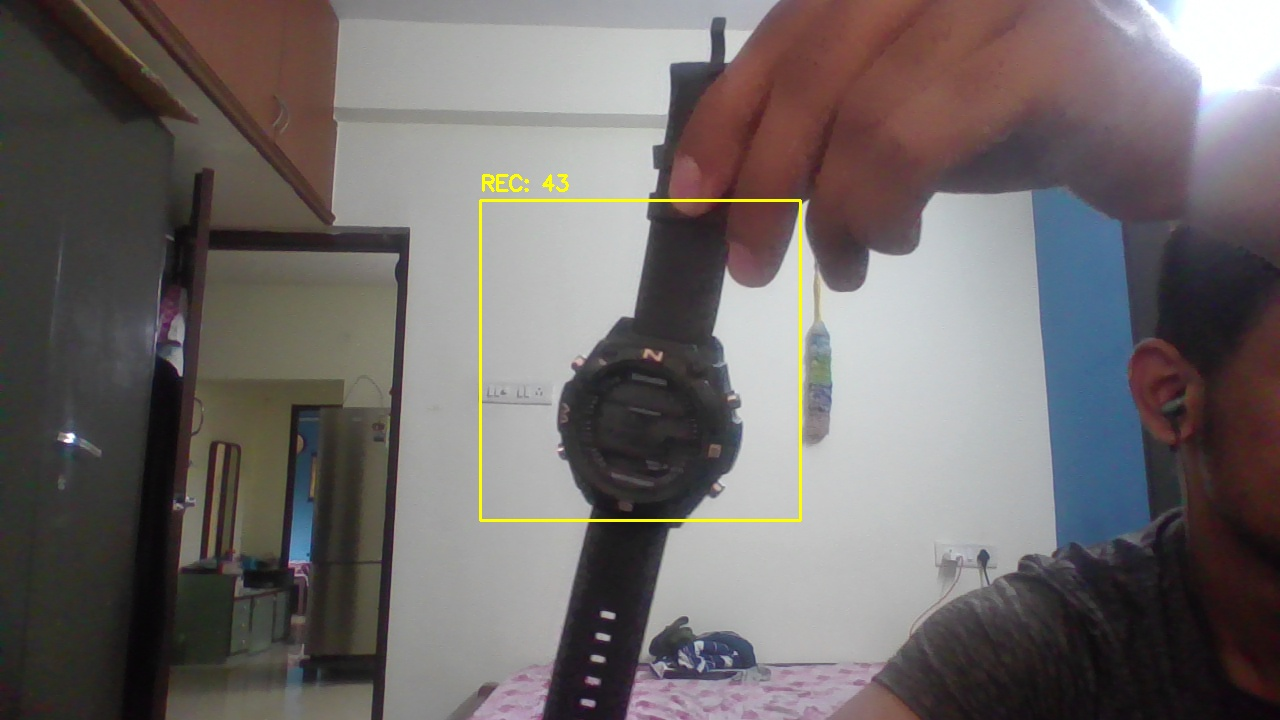watch: (480, 200, 800, 520)
